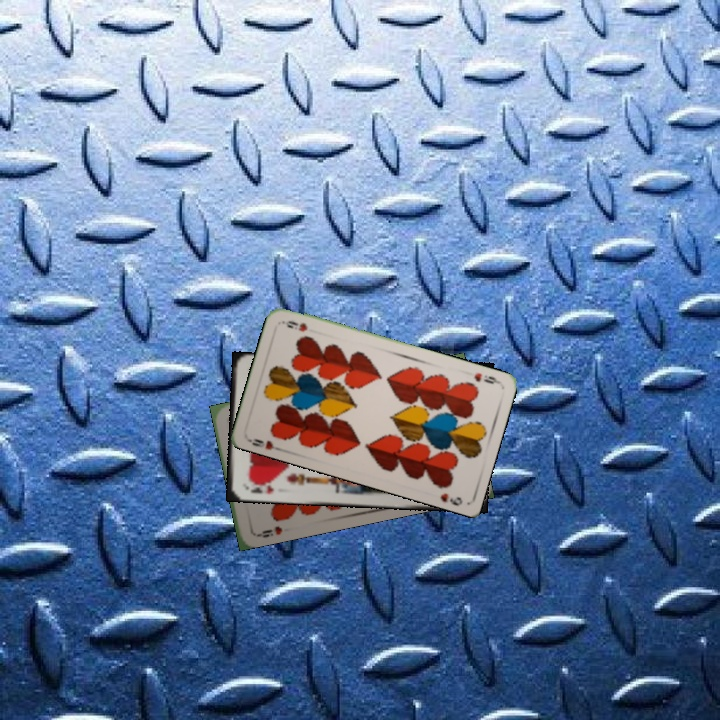H9: (245, 434, 285, 454), (251, 522, 285, 540), (470, 369, 502, 386)
HK: (242, 477, 276, 496)
